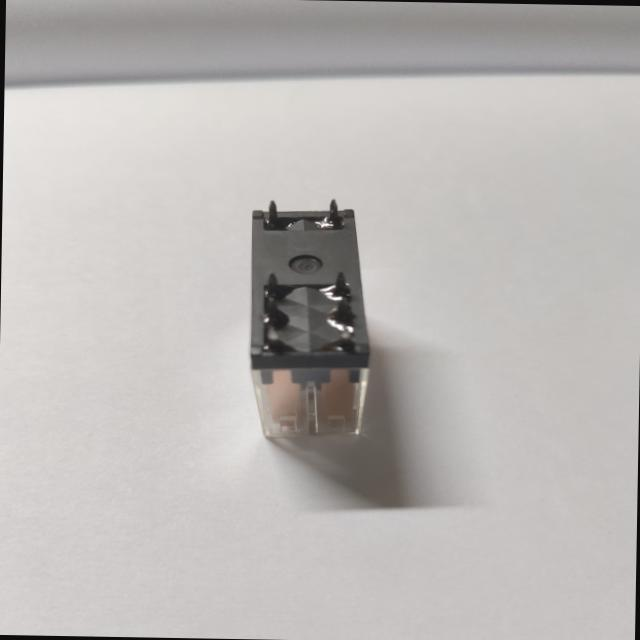relay: (231, 195, 398, 454)
